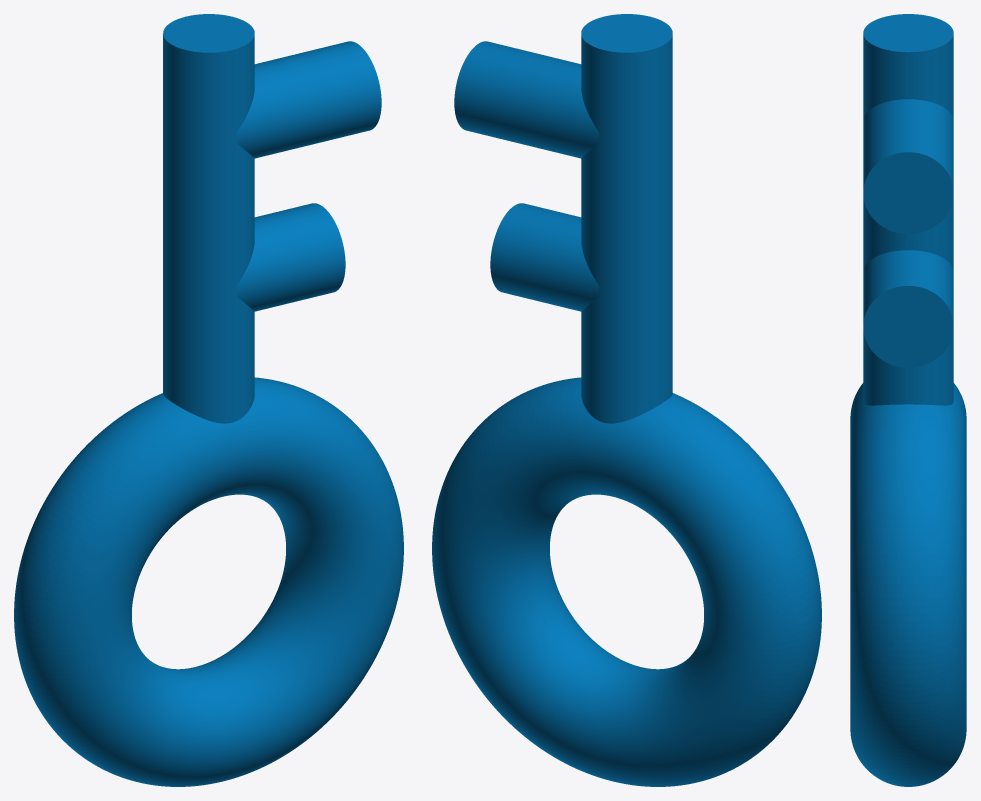
File: BlueKey.fbx
3 renders of one model, left to right at view 1: azimuth 30°, elevation 25°; view 2: azimuth 150°, elevation 25°; view 3: azimuth 270°, elevation 25°, orthographic.
Visible parts, largest first — view 1: Torus, Cylinder, Cylinder.001, Cylinder.002; view 2: Torus, Cylinder, Cylinder.001, Cylinder.002; view 3: Torus, Cylinder, Cylinder.001, Cylinder.002.
Boxes of the visible parts, box(x1,y1,x2,y2) form: Torus: box(14, 377, 403, 786); Cylinder: box(163, 14, 254, 423); Cylinder.001: box(236, 41, 381, 158); Cylinder.002: box(236, 203, 345, 311); Torus: box(432, 377, 821, 786); Cylinder: box(581, 14, 672, 423); Cylinder.001: box(454, 41, 599, 158); Cylinder.002: box(490, 203, 599, 311); Torus: box(850, 383, 966, 786); Cylinder: box(863, 14, 953, 405); Cylinder.001: box(863, 99, 953, 233); Cylinder.002: box(863, 250, 953, 367).
Bounding box in the file's own units: 132 × 251 × 36.
